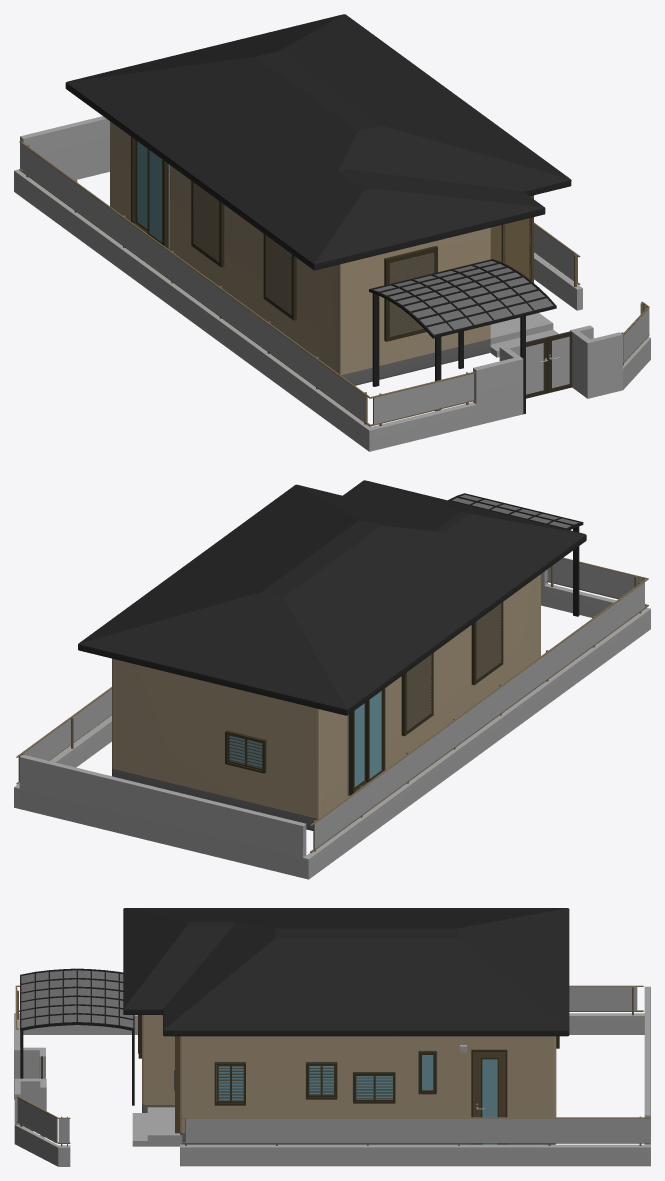
The model's file is House_004_high.fbx.
The picture shows the model from 3 angles, top to bottom: view 1: azimuth 30°, elevation 25°; view 2: azimuth 150°, elevation 25°; view 3: azimuth 270°, elevation 25°; orthographic projection. The views are drawn at different scales.
Parts seen in each view (by area): view 1: pCylinder17; view 2: pCylinder17; view 3: pCylinder17.
Part boxes in pixels (x1=…): pCylinder17: x1=14, y1=14, x2=650, y2=451; pCylinder17: x1=14, y1=480, x2=650, y2=879; pCylinder17: x1=14, y1=908, x2=650, y2=1166.
Bounding box in the file's own units: 807 × 465 × 1620.
